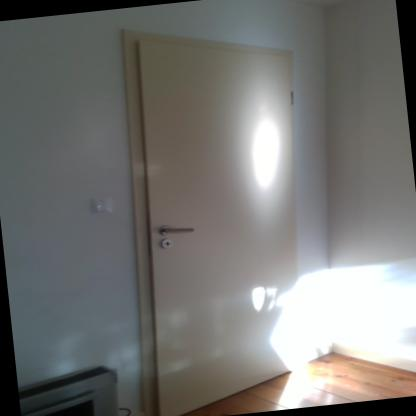closed: (105, 17, 348, 406)
